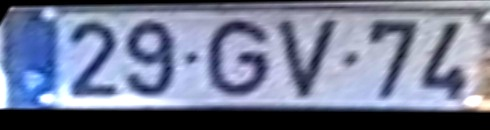2: (64, 19, 120, 100)
4: (414, 19, 474, 105)
7: (366, 17, 427, 102)
9: (121, 18, 179, 99)
G: (207, 18, 272, 98)
V: (275, 17, 343, 100)
